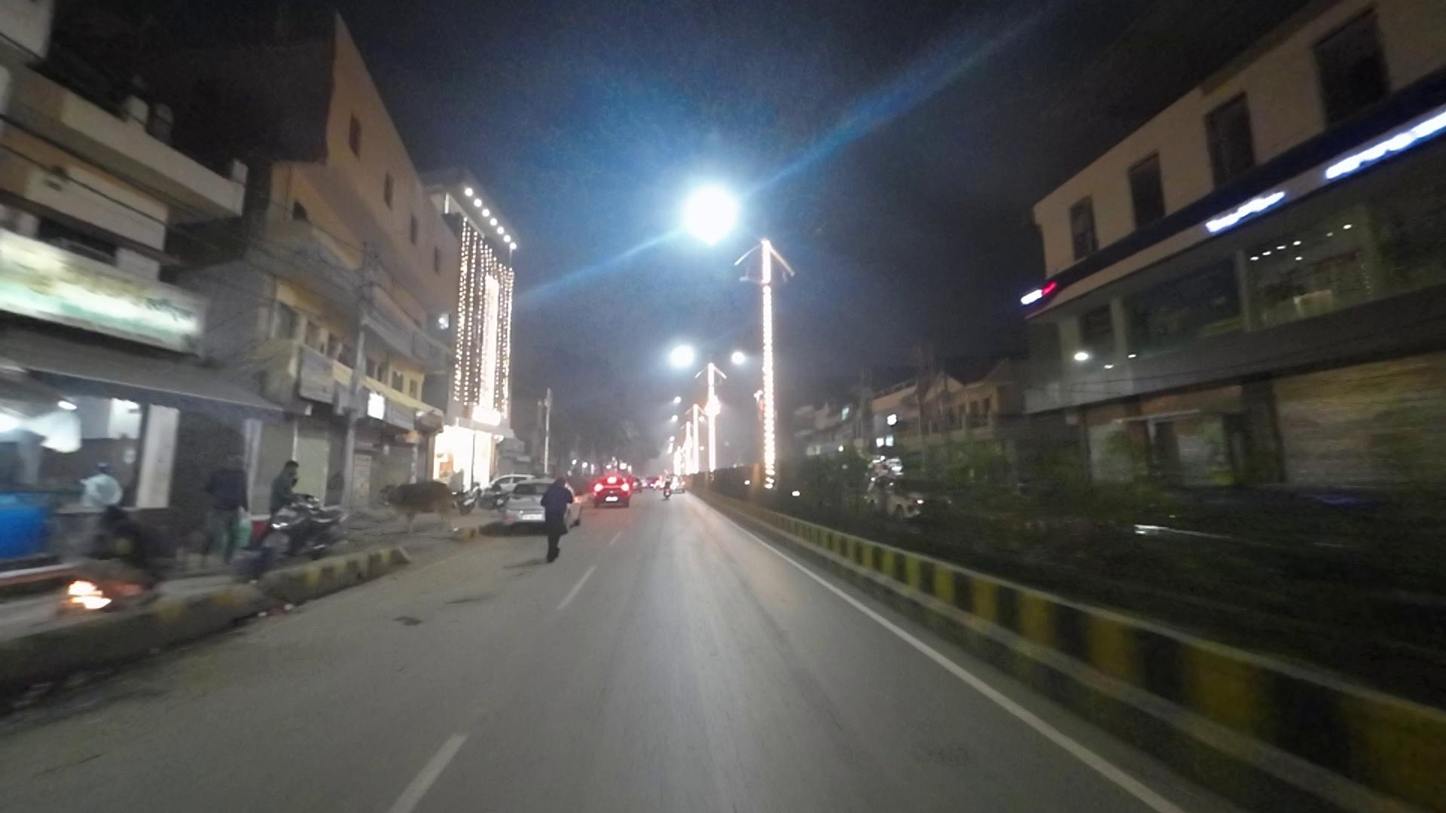streetlight: (769, 221, 824, 239)
